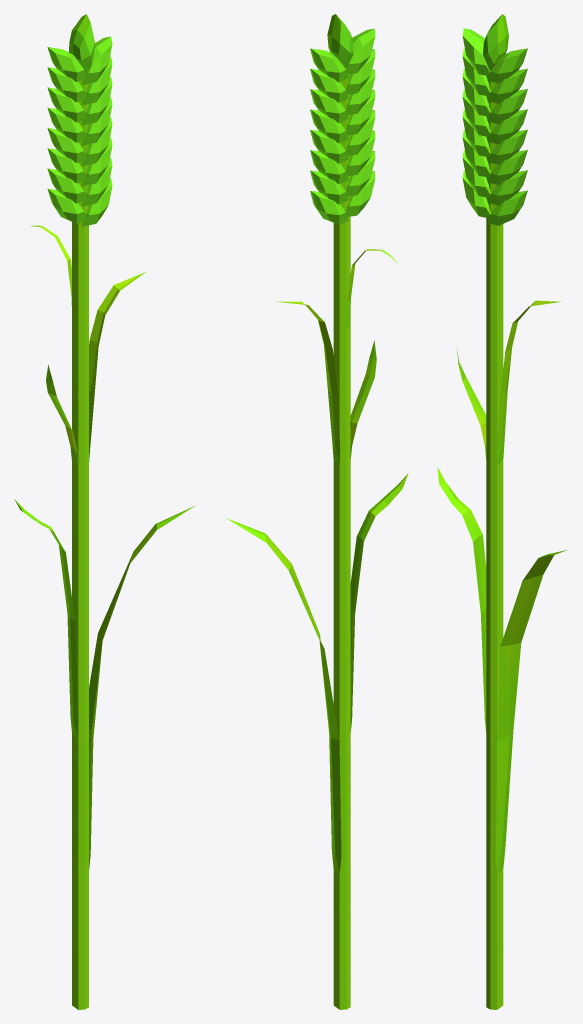
The model's file is Wheat.fbx.
The picture shows the model from 3 angles, left to right: view 1: azimuth 30°, elevation 25°; view 2: azimuth 210°, elevation 25°; view 3: azimuth 330°, elevation 25°; orthographic projection.
Parts seen in each view (by area): view 1: Wheat; view 2: Wheat; view 3: Wheat.
Boxes of the visible parts, left/top/right/bottom form: Wheat: left=14, top=14, right=195, bottom=1009; Wheat: left=226, top=14, right=408, bottom=1009; Wheat: left=437, top=14, right=566, bottom=1009.
Bounding box in the file's own units: 0.2534 × 1.53 × 0.1562.
